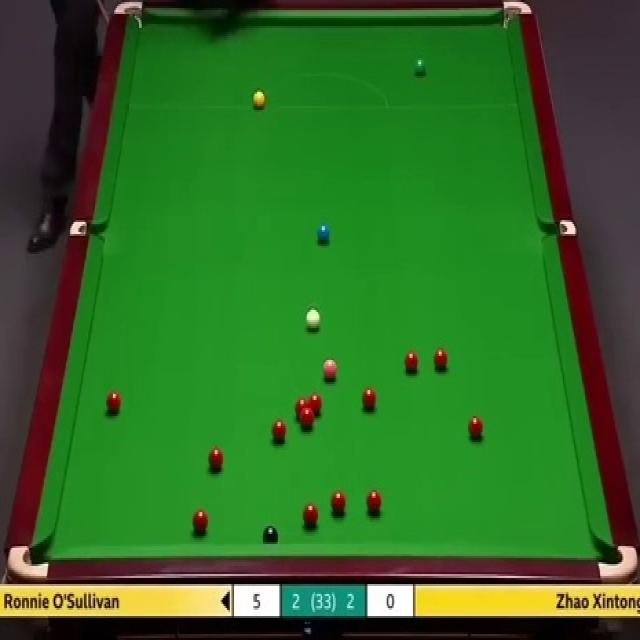black-ball: (262, 526, 278, 542)
blue-ball: (316, 223, 329, 244)
green-ball: (413, 55, 428, 75)
pink-ball: (321, 358, 338, 380)
red-ball: (207, 446, 225, 472), (270, 418, 288, 444), (467, 414, 485, 440), (330, 491, 347, 517), (192, 508, 209, 533), (300, 406, 315, 434), (302, 502, 318, 528), (306, 392, 323, 416), (432, 347, 448, 372), (105, 392, 122, 414), (362, 386, 377, 410), (404, 352, 420, 372), (367, 491, 382, 512), (296, 398, 309, 421)
white-ball: (306, 307, 321, 329)
yellow-ball: (250, 90, 266, 110)
